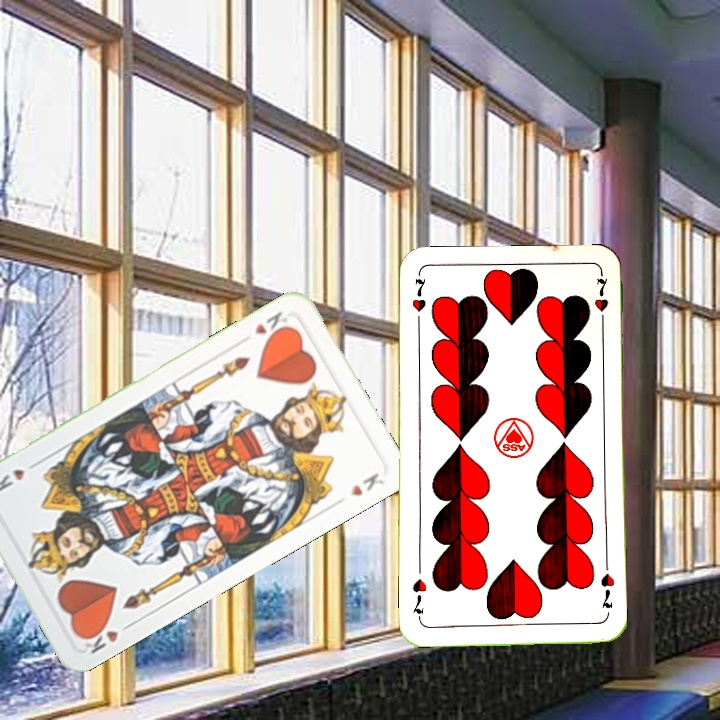H7: (408, 275, 429, 331), (596, 569, 617, 611)
HK: (78, 618, 136, 656), (250, 307, 296, 343)
